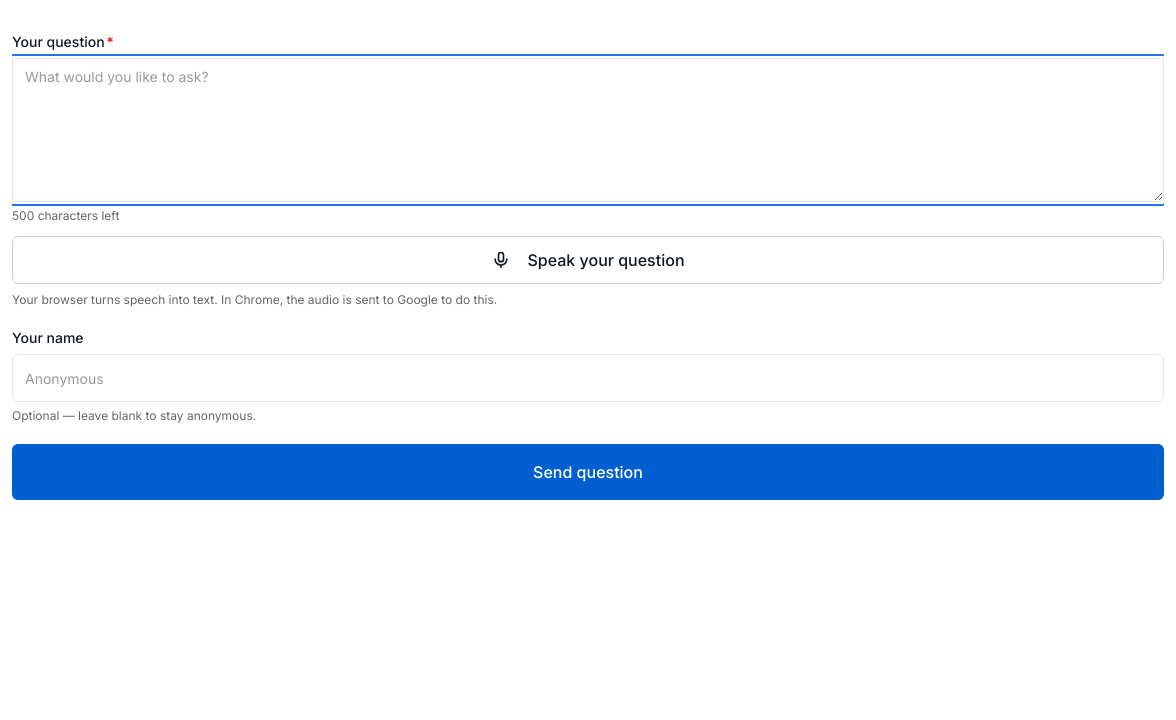
client-side validation › refuses an empty question without troubling the server
Click the button "Send question" at (588, 472), box left=12, top=444, right=1164, bottom=500
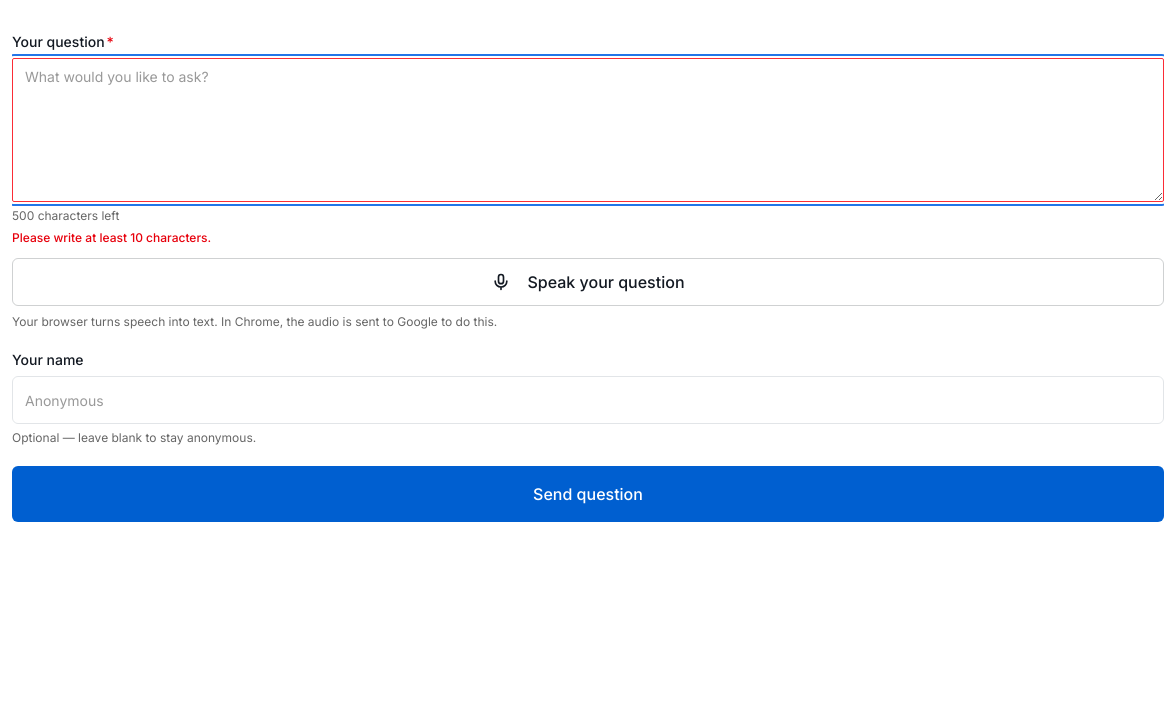
Expected: the text "Please write at least 10 characters." is shown, left=12, top=230, right=211, bottom=245
